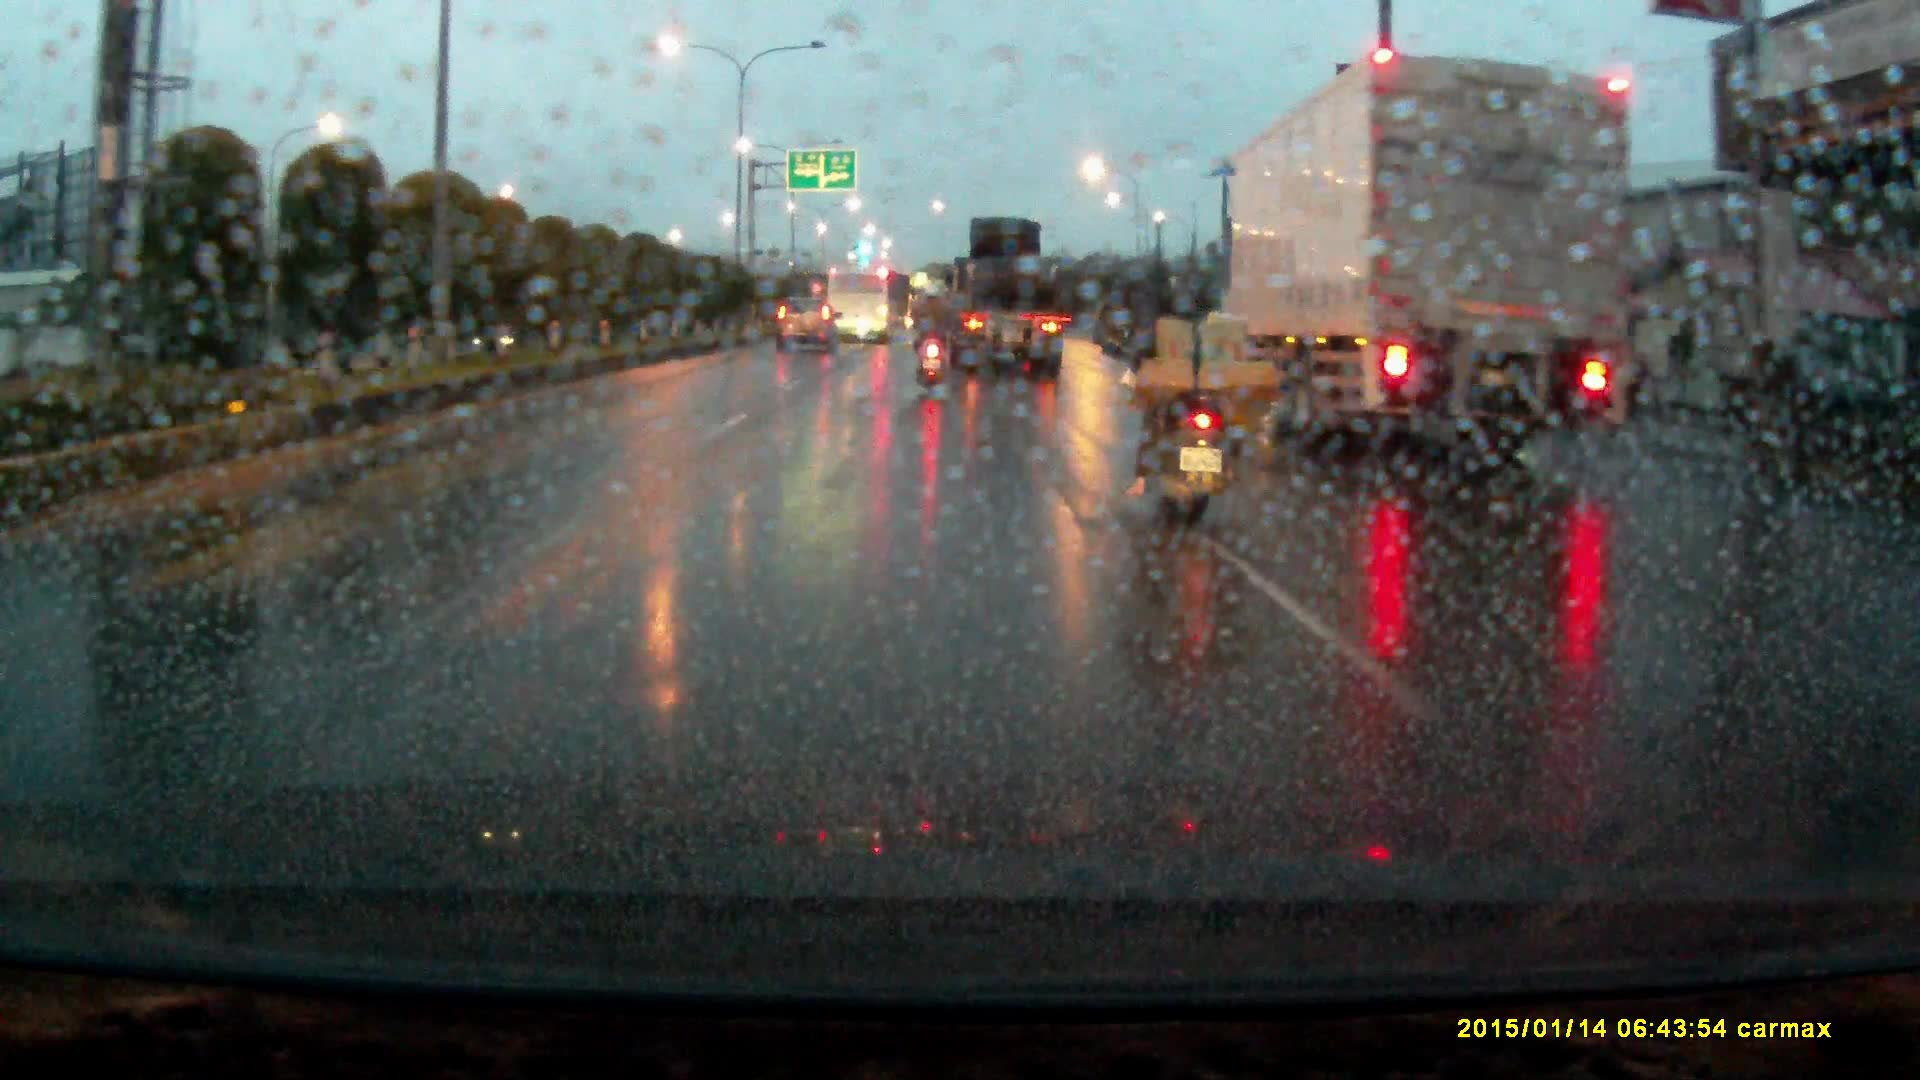rider: (1128, 253, 1278, 539), (913, 288, 954, 389)
vehicle: (1220, 47, 1638, 454), (937, 219, 1064, 377), (829, 265, 892, 341), (774, 293, 841, 354)
